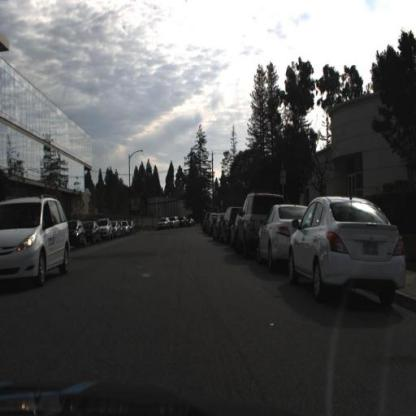car: (288, 194, 405, 303), (1, 197, 71, 288), (257, 198, 289, 270), (235, 190, 258, 254), (69, 217, 88, 252), (85, 216, 102, 249), (158, 214, 174, 232)
